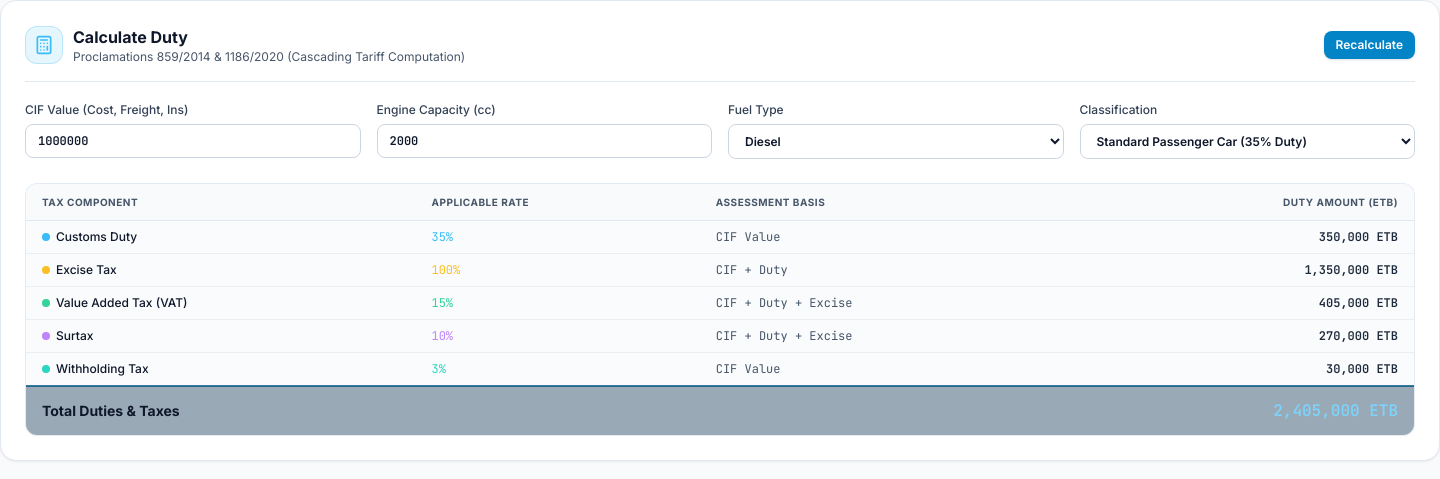
DutyCalculatorWidget Component › applies 10% duty rate for Commercial vehicles
The width and height of the screenshot is (1440, 479).
# Select COMMERCIAL category
Select "Commercial Freight / Truck (10% Duty)" in the dropdown with test id "select-category" at coordinates (1247, 142), box [1080,124,1415,159]
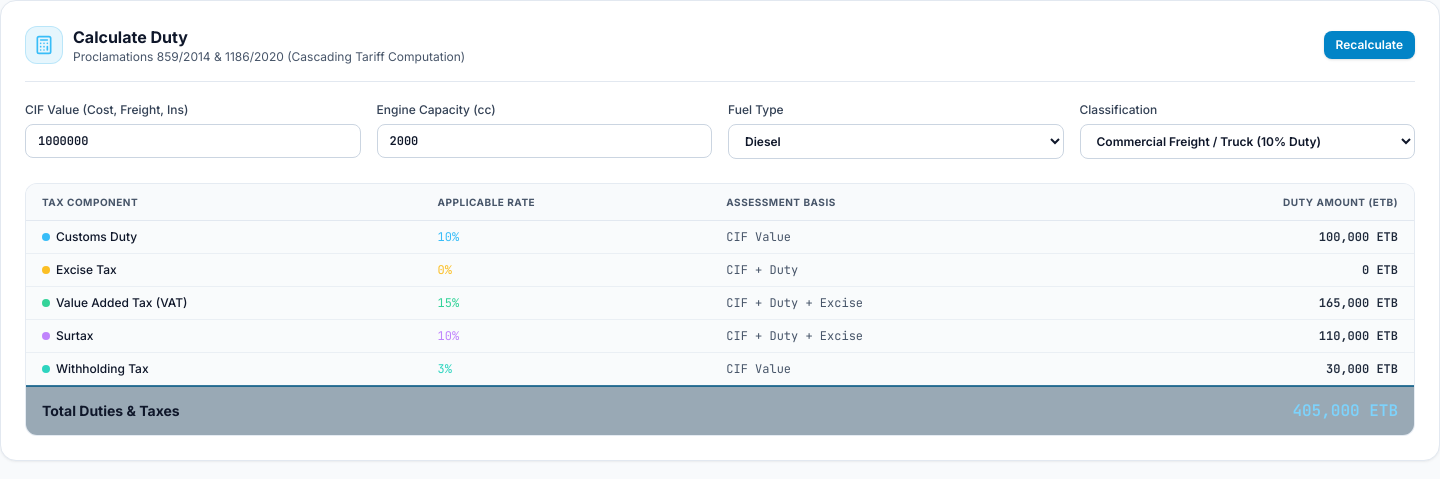
Expected: the cell with test id "result-duty" reads "100,000 ETB", [1086,220,1414,254]
